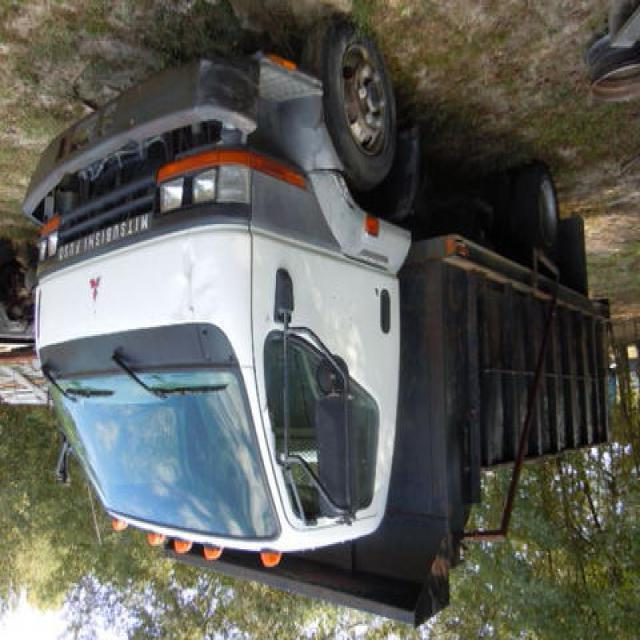truck: (22, 19, 616, 633)
